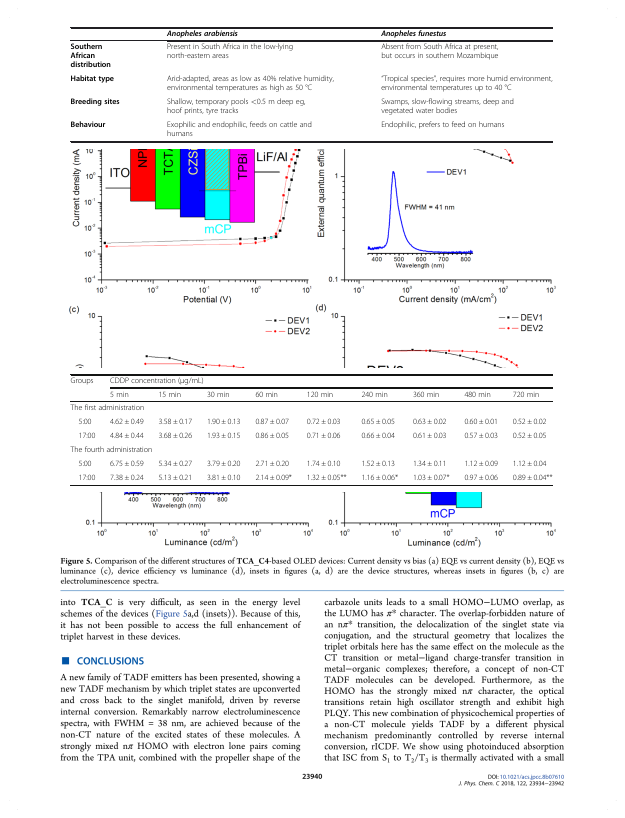borderless: (69, 26, 552, 141), (69, 373, 553, 485)
cell: (380, 75, 553, 94), (166, 75, 335, 94), (166, 121, 313, 140), (166, 98, 306, 117), (380, 98, 515, 117), (166, 43, 294, 62), (380, 43, 499, 62), (380, 121, 505, 131), (69, 43, 112, 71), (109, 377, 205, 386), (70, 445, 153, 455), (70, 403, 145, 413), (166, 30, 239, 39), (380, 30, 447, 39), (69, 98, 121, 108), (69, 75, 115, 85), (306, 473, 347, 483), (512, 473, 553, 483), (254, 473, 293, 483), (360, 473, 399, 483), (412, 473, 450, 483), (69, 121, 106, 131), (109, 417, 145, 427), (157, 417, 193, 427), (254, 417, 290, 427), (360, 417, 396, 427), (463, 417, 499, 427), (109, 431, 145, 441), (157, 431, 193, 441), (254, 431, 290, 441), (360, 431, 396, 441), (463, 431, 499, 441), (109, 459, 145, 469), (157, 459, 193, 469), (254, 459, 290, 469), (360, 459, 396, 469), (463, 459, 499, 469), (109, 473, 145, 483), (157, 473, 193, 483), (463, 473, 499, 483), (206, 417, 241, 427), (306, 417, 341, 427), (412, 417, 447, 427), (512, 417, 547, 427), (206, 431, 241, 441), (306, 431, 341, 441), (412, 431, 447, 441), (512, 431, 547, 441), (206, 459, 241, 469), (306, 459, 341, 469), (412, 459, 447, 469), (512, 459, 547, 469), (206, 473, 241, 483), (360, 390, 389, 399), (463, 390, 492, 399), (306, 390, 334, 399), (412, 390, 440, 399), (512, 390, 540, 399), (157, 390, 182, 399), (254, 390, 279, 399), (70, 377, 94, 386), (206, 390, 230, 399), (77, 431, 96, 441), (77, 473, 96, 483), (109, 390, 130, 399), (77, 417, 92, 427), (77, 459, 92, 469)
